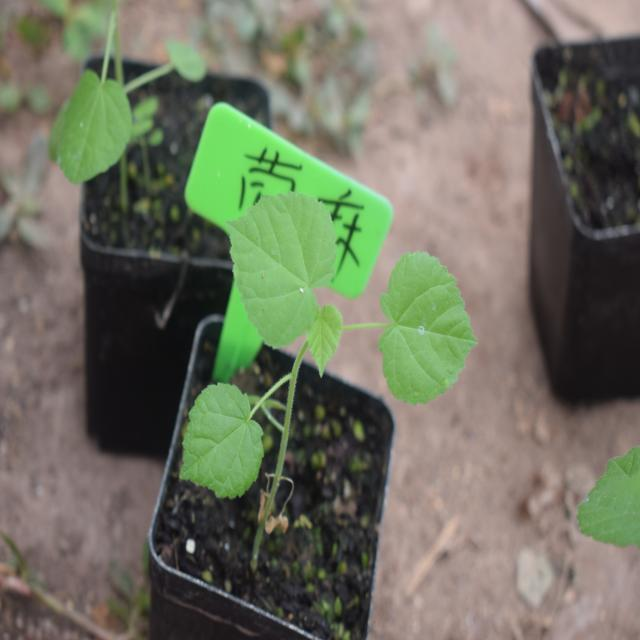abutilon theophrasti: (190, 165, 471, 518)
